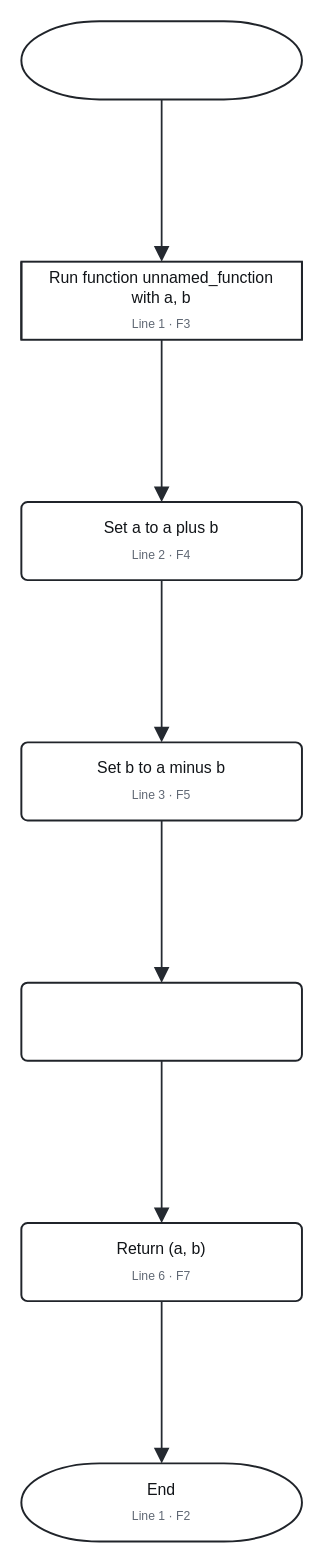
Some shapes in this 325 by 1564 pixel diagram are drawn without their labels. Here are the shapes that lost their labels. From the top down, the centre of each, then its label:
[161,60]: Start Line 1 · F1
[161,1021]: Set a to a minus b Line 4 · F6
